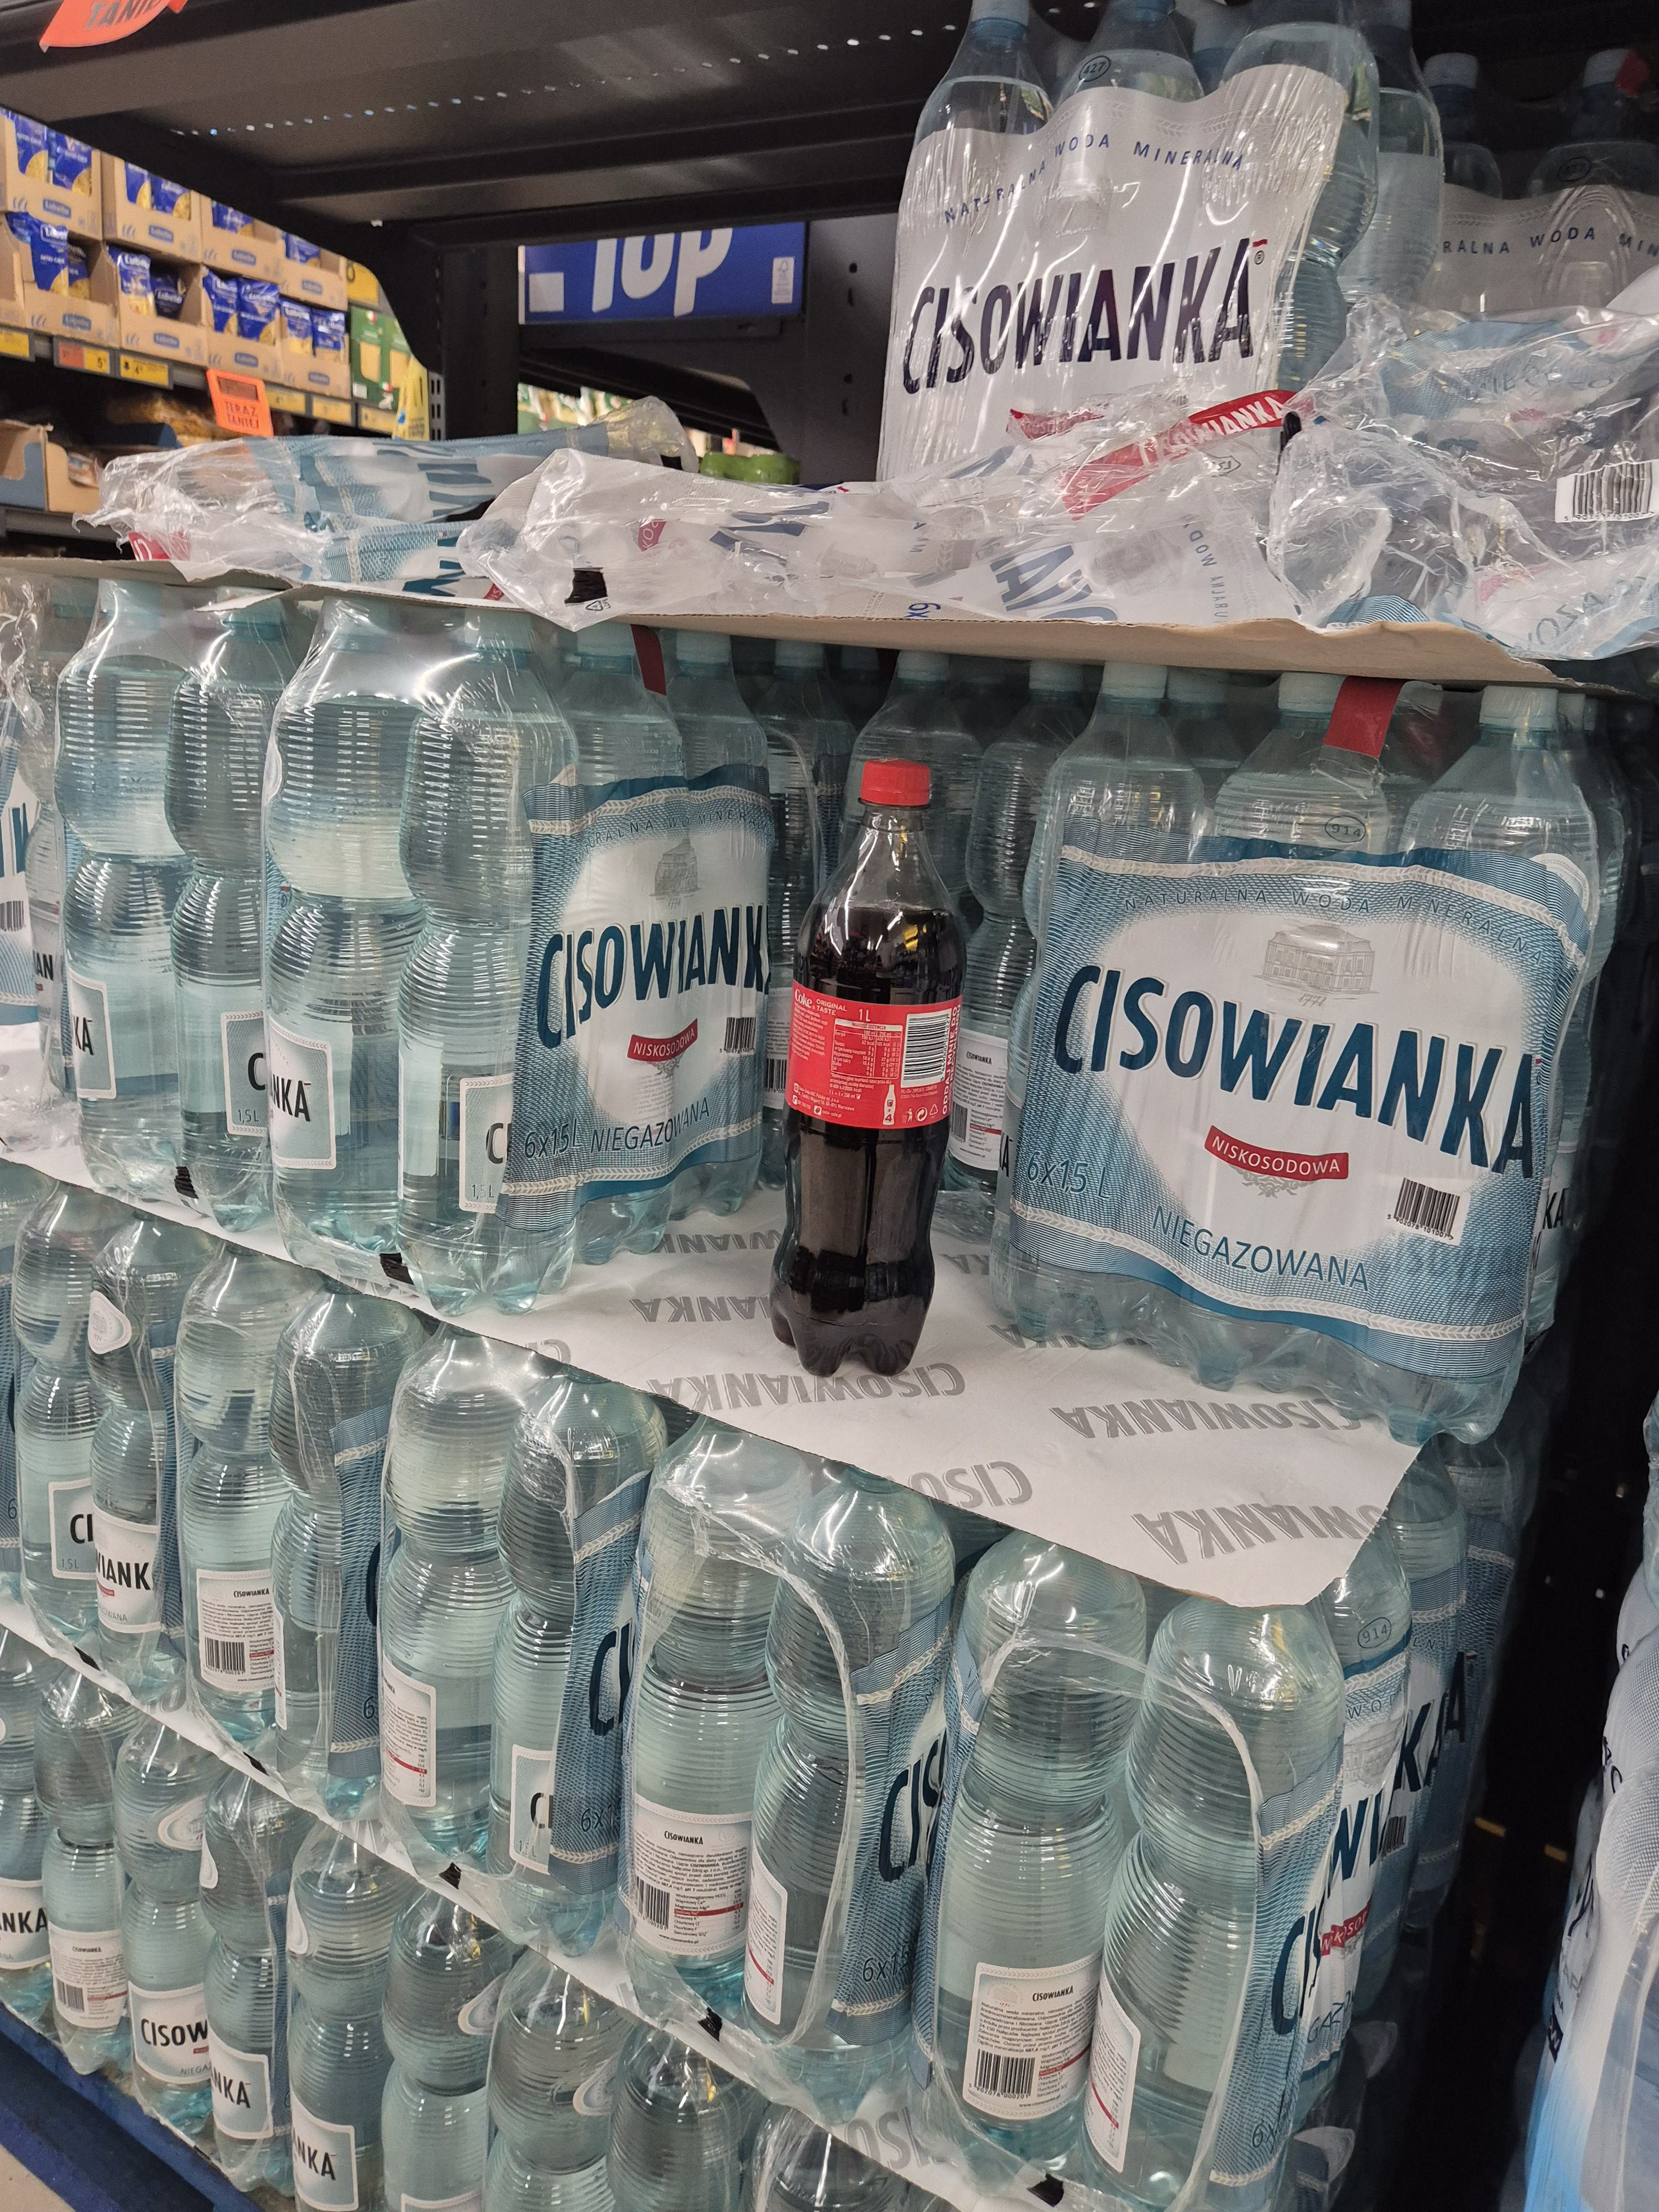Coca Cola: (758, 742, 972, 1418)
